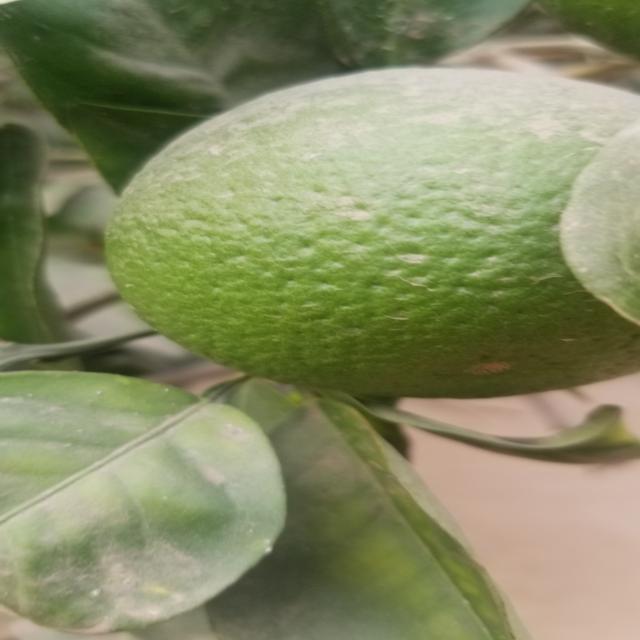Unripe: (81, 61, 640, 409)
